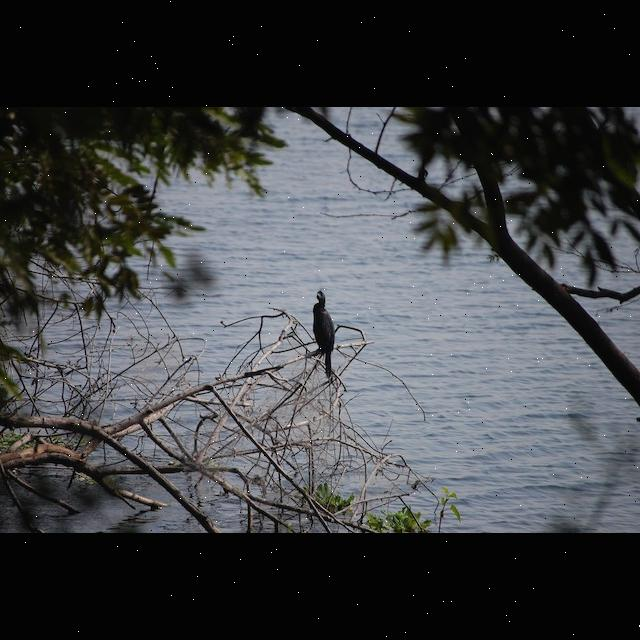cormorant: (304, 285, 346, 381)
